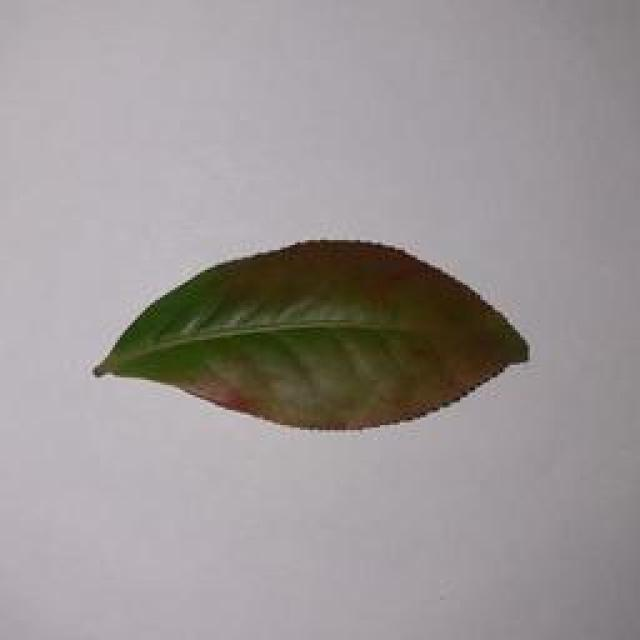Red Leaf Spot: (56, 232, 553, 439)
